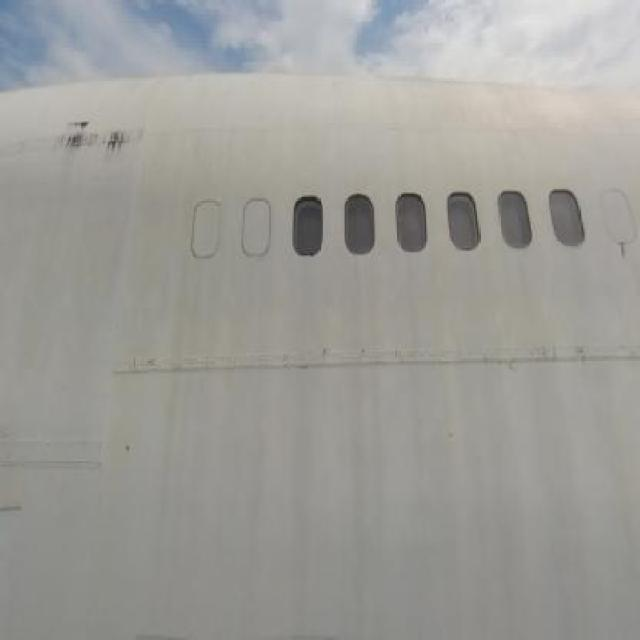Rust: (54, 109, 141, 174), (617, 242, 628, 272)
Scartch: (534, 336, 594, 375)
